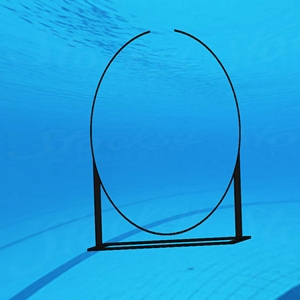circle: (88, 28, 252, 256)
